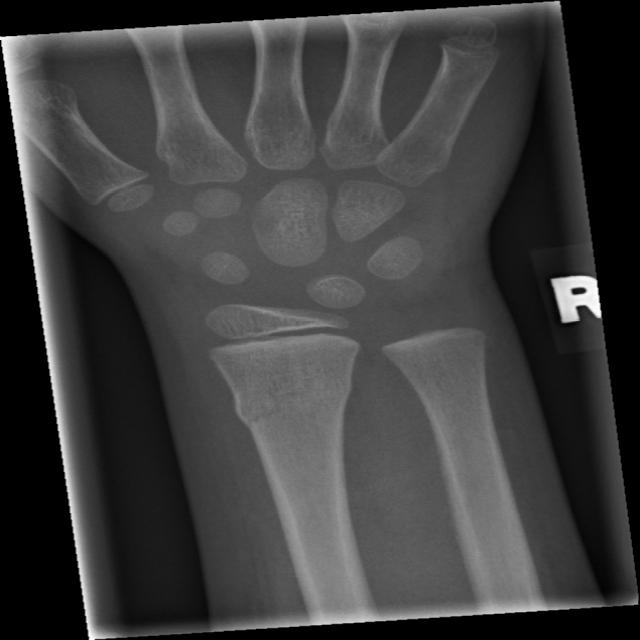radius fracture: (205, 367, 369, 506)
